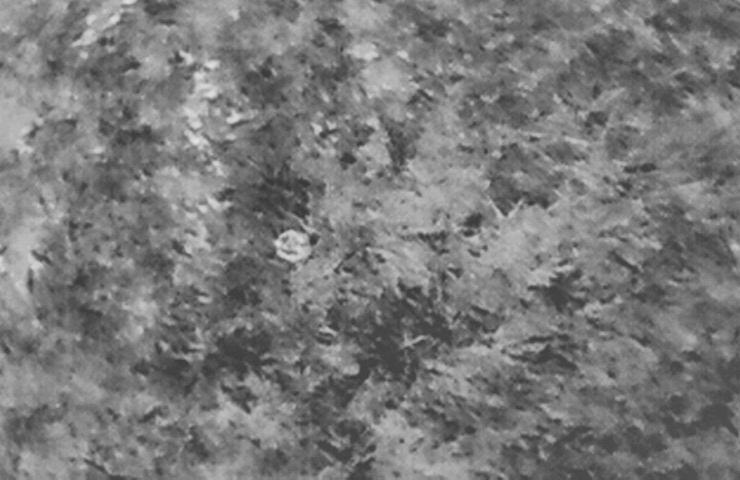landmines: (273, 228, 314, 267)
